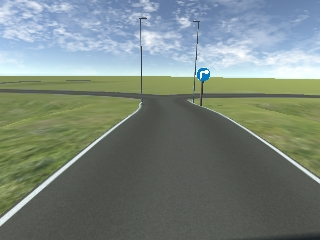right: (196, 68, 211, 82)
